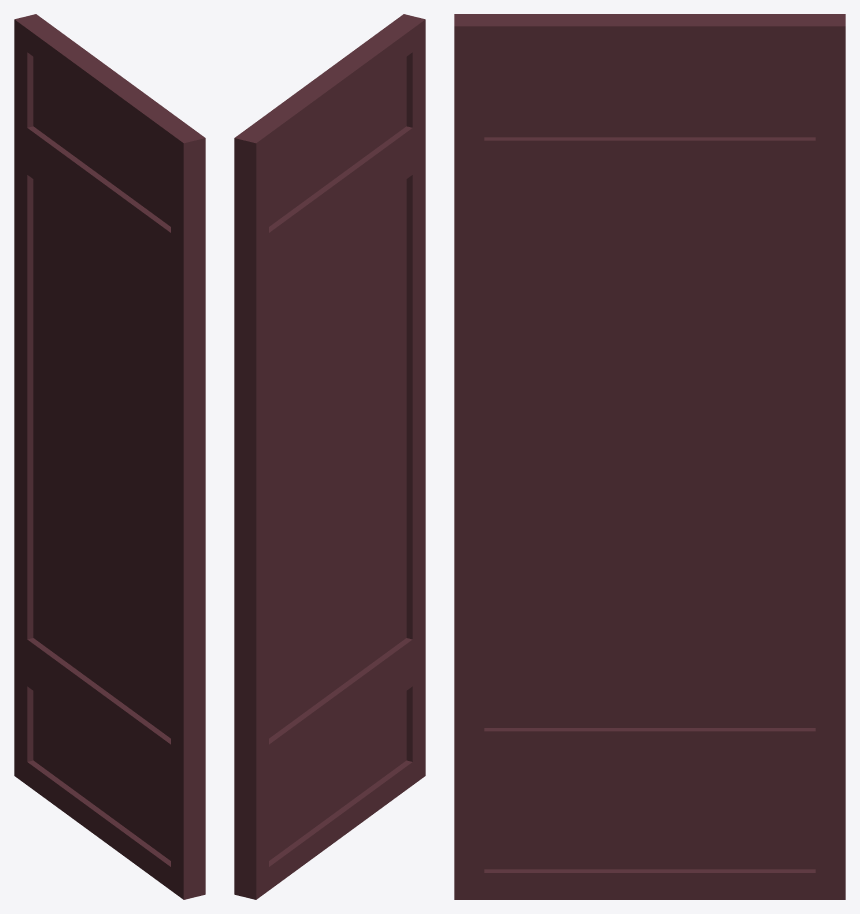
File: arch_door_left.fbx
The picture shows the model from 3 angles, left to right: view 1: azimuth 30°, elevation 25°; view 2: azimuth 150°, elevation 25°; view 3: azimuth 270°, elevation 25°; orthographic projection. The views are drawn at different scales.
Visible parts, largest first — view 1: Doors; view 2: Doors; view 3: Doors.
Part boxes in pixels (left/top/right/bottom): Doors: left=14, top=14, right=205, bottom=899; Doors: left=234, top=14, right=425, bottom=899; Doors: left=454, top=14, right=845, bottom=899.
Size of the model in its own units: 9.16 by 304 by 123.
